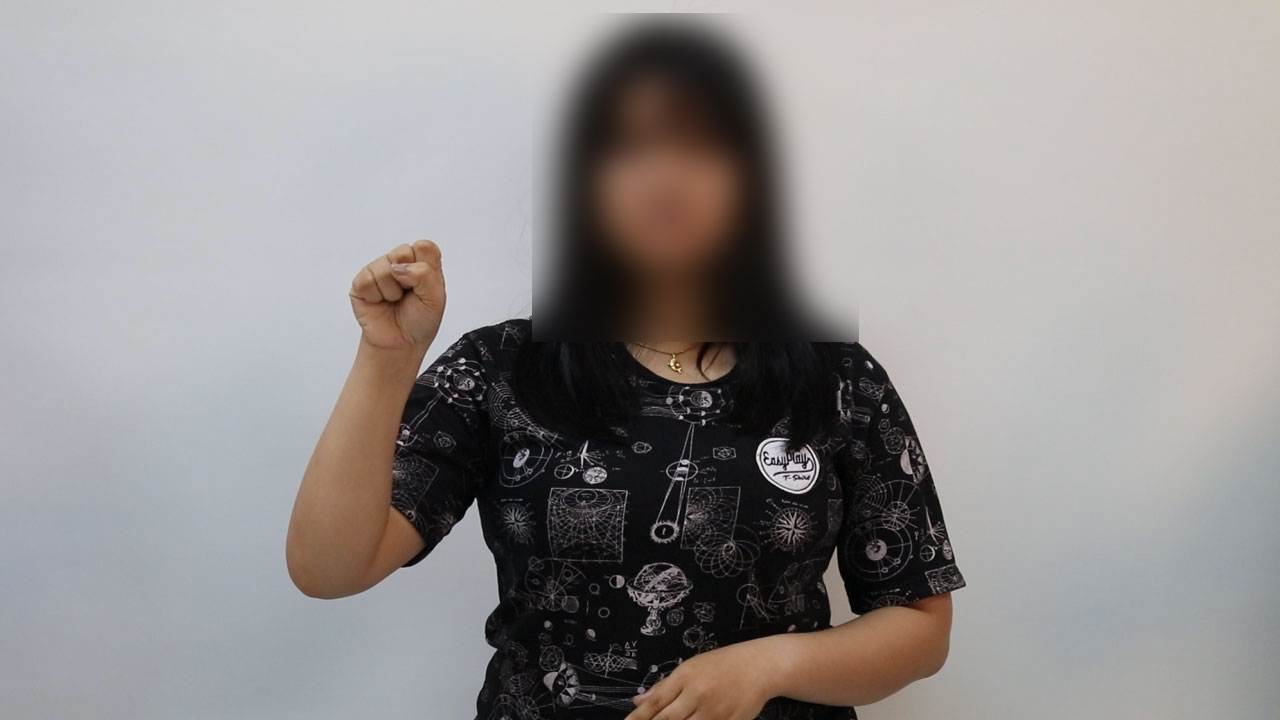sor: (331, 229, 455, 360)
